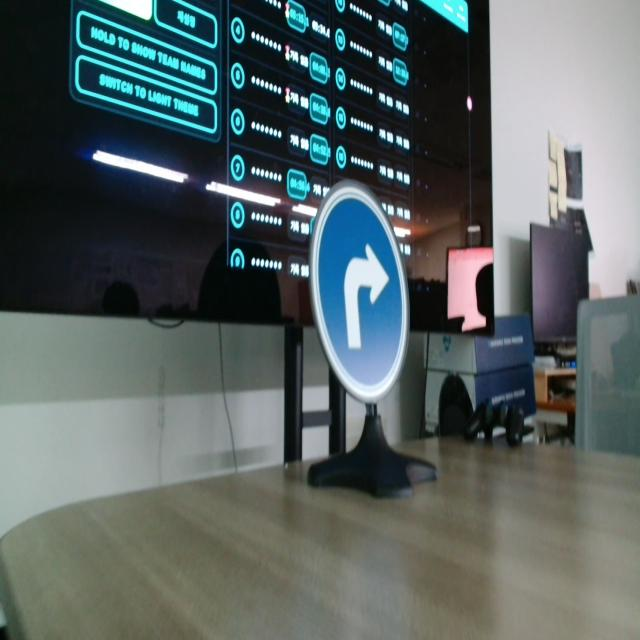right_dierection: (306, 178, 411, 398)
